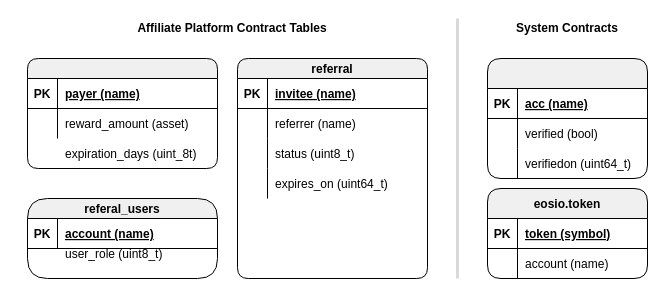
Some shapes in this 665 by 298 pixel diagram are drawn without their labels. Here are the shapes that lost their labels. From the top down, the box of each, then its label:
(26, 58, 218, 168): referral_params
(486, 58, 648, 178): eosio.proton:usersinfo
